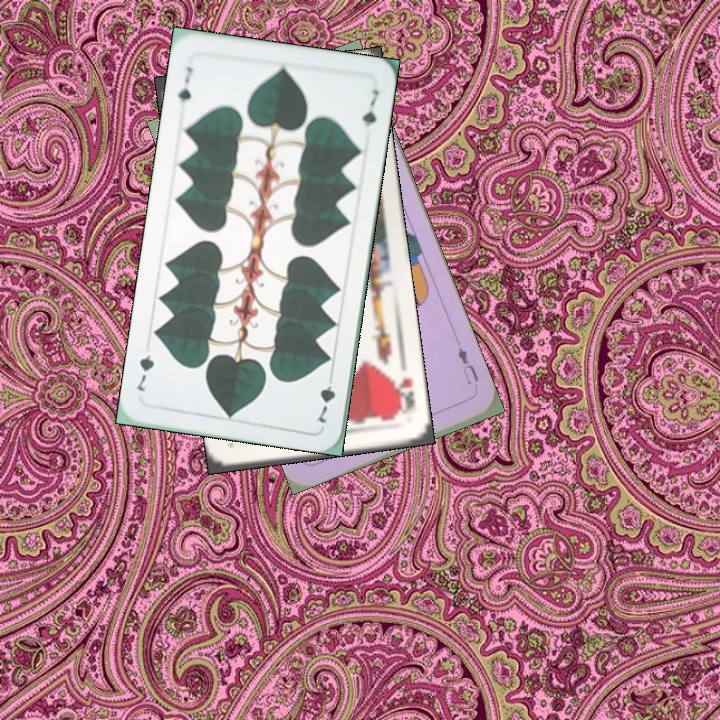EU: (453, 342, 482, 388)
G7: (314, 368, 338, 426), (173, 62, 195, 105)
HK: (390, 373, 419, 418)
